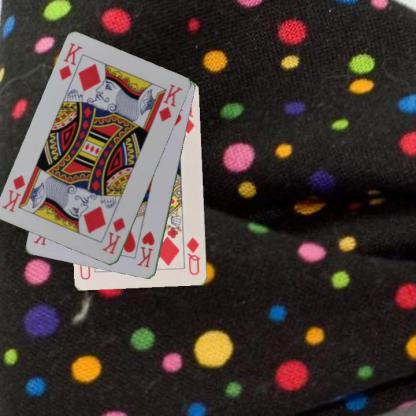Kd: (56, 40, 84, 82), (99, 215, 127, 256)
Kh: (135, 229, 156, 269)
Qd: (184, 234, 203, 276)
